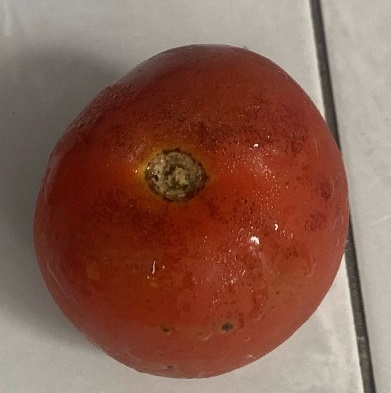NG: (22, 33, 360, 388)
